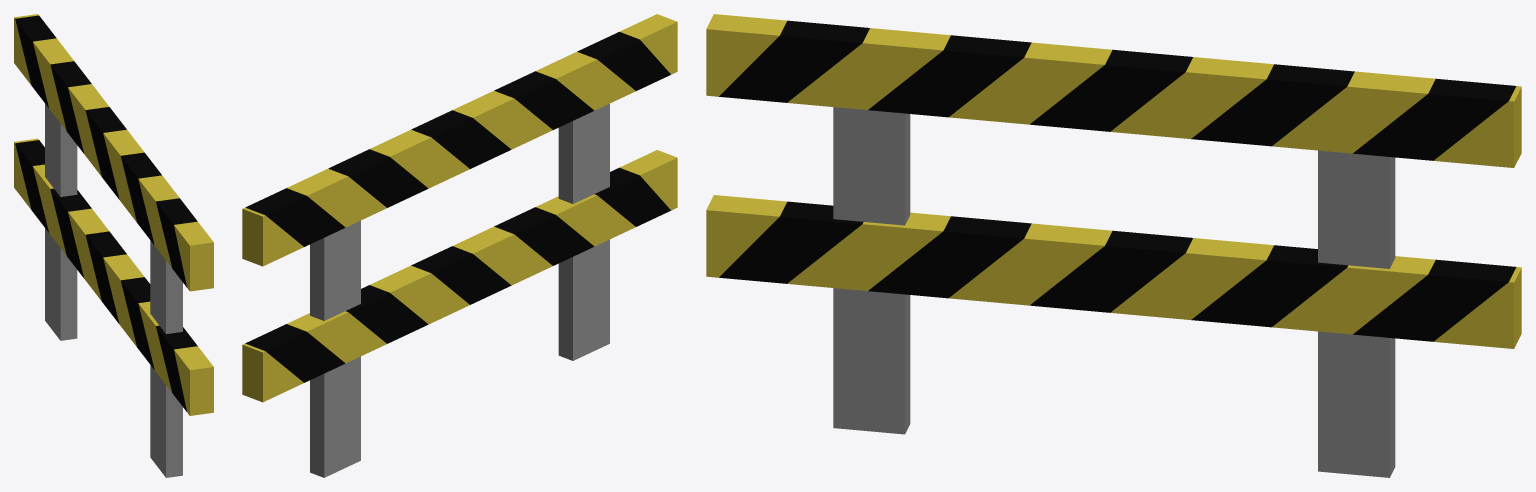
Rendered from barrier.fbx.
The picture shows the model from 3 angles, left to right: view 1: azimuth 30°, elevation 25°; view 2: azimuth 150°, elevation 25°; view 3: azimuth 270°, elevation 25°; orthographic projection. The views are drawn at different scales.
Visible parts, largest first — view 1: Cube_003; view 2: Cube_003; view 3: Cube_003.
Boxes of the visible parts, x1,y1,x2,y2 form: Cube_003: [14, 14, 213, 477]; Cube_003: [242, 14, 677, 477]; Cube_003: [706, 14, 1521, 477].
Size of what is drawn, in the model's own units: 1.13 by 2.34 by 4.44.
